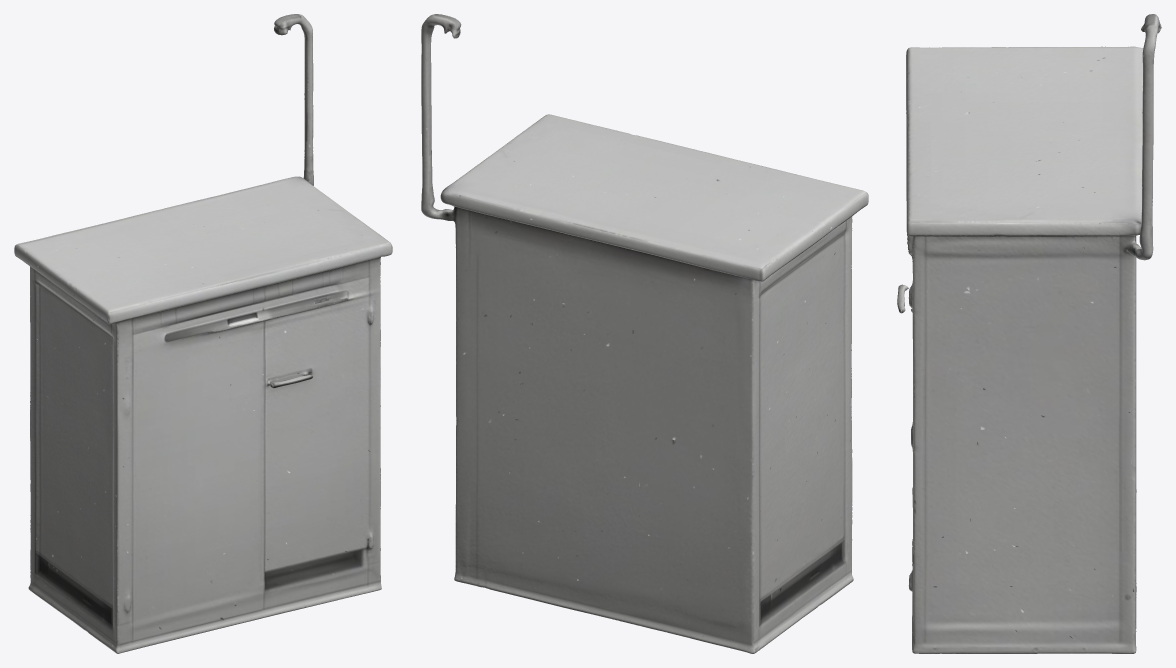
Rendered from cabi.glb.
The picture shows the model from 3 angles, left to right: view 1: azimuth 30°, elevation 25°; view 2: azimuth 150°, elevation 25°; view 3: azimuth 270°, elevation 25°; orthographic projection. The views are drawn at different scales.
Bounding box in the file's own units: 1.25 × 2 × 0.7518.
1 material, 1 textured.
